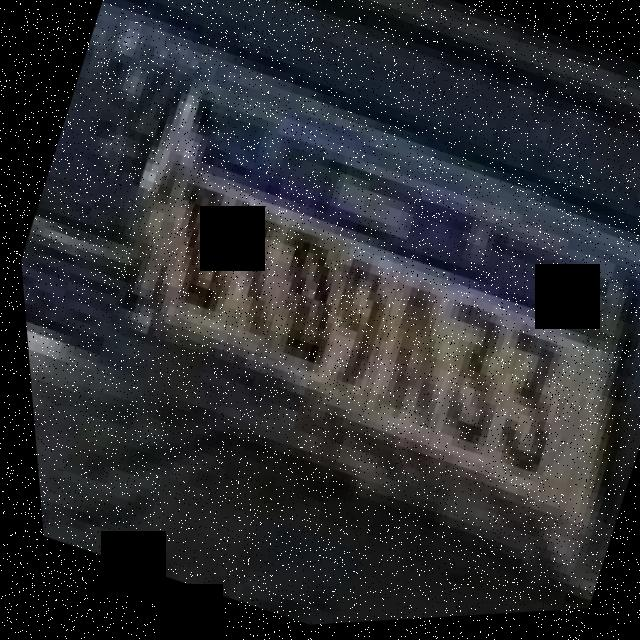3: (449, 316, 592, 503), (396, 292, 531, 471)
9: (294, 247, 407, 402)
A: (345, 275, 477, 448)
D: (234, 224, 363, 383), (130, 164, 257, 317)
T: (187, 195, 307, 350)
